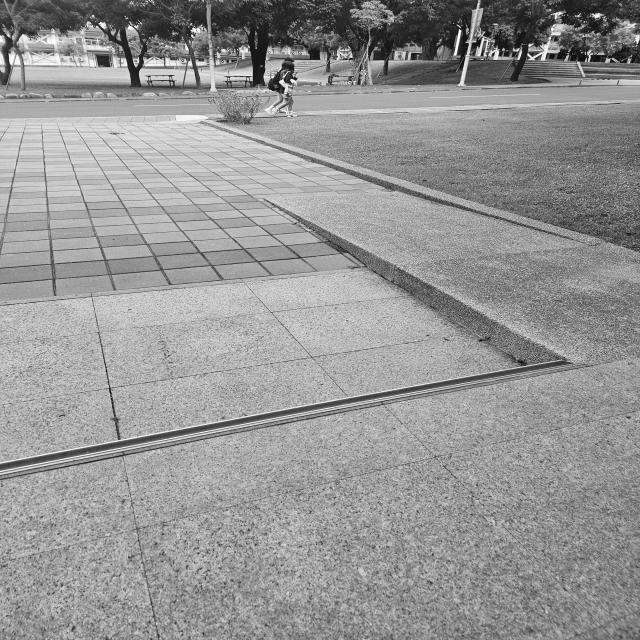Road-Object: (2, 360, 638, 640), (0, 99, 381, 304)
floor: (0, 360, 572, 479), (269, 190, 638, 363)
